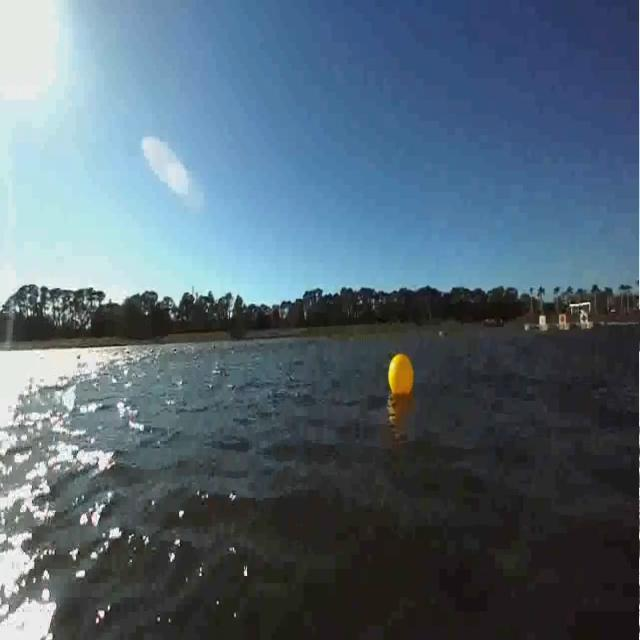yellow-buoy: (387, 351, 413, 395)
